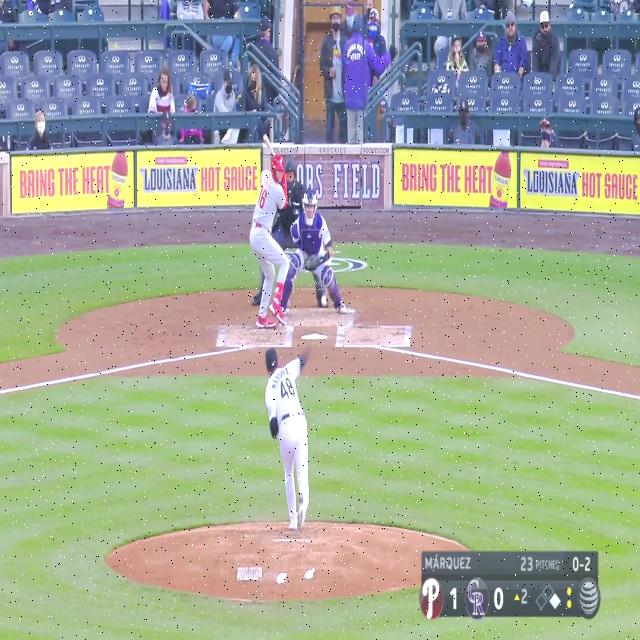baseball: (320, 294, 328, 308)
